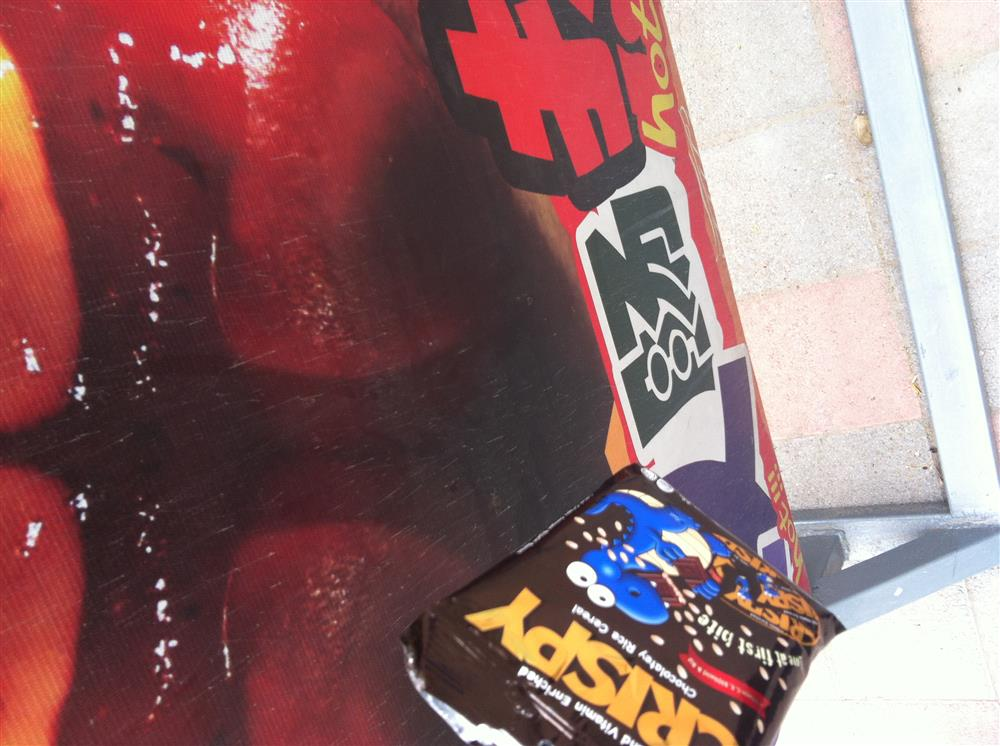CRISPY: (393, 461, 846, 745)
